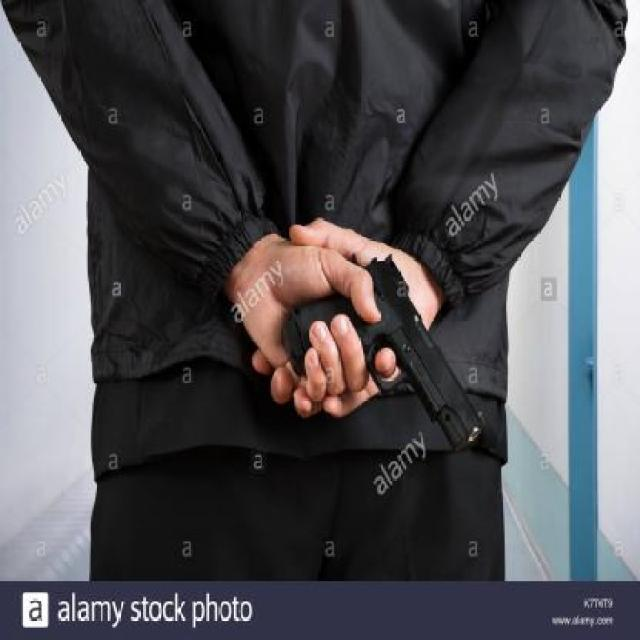gun: (284, 213, 500, 470)
